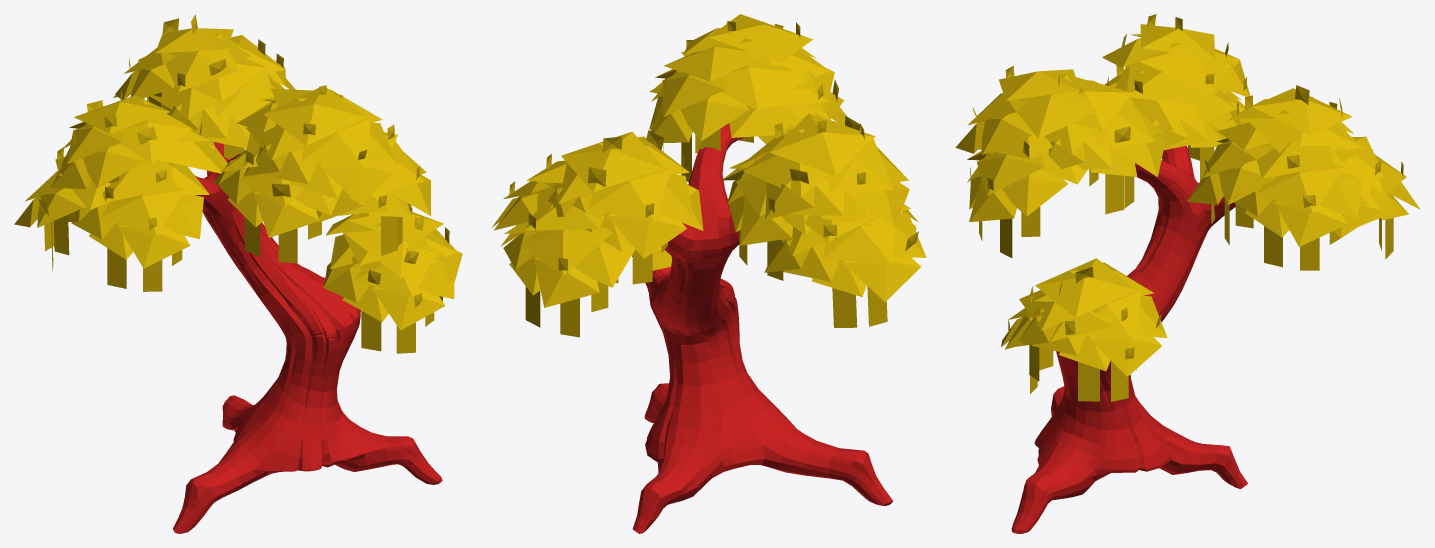
File: SM_Tree_02_P2.fbx
3 views of the same model, side by side, from view 1: azimuth 30°, elevation 25°; view 2: azimuth 150°, elevation 25°; view 3: azimuth 270°, elevation 25° (orthographic). The views are drawn at different scales.
Parts seen in each view (by area): view 1: SM_Tree_02; view 2: SM_Tree_02; view 3: SM_Tree_02.
Boxes of the visible parts, x1=… form: SM_Tree_02: x1=14, y1=14, x2=462, y2=533; SM_Tree_02: x1=491, y1=14, x2=926, y2=533; SM_Tree_02: x1=955, y1=14, x2=1420, y2=533.
Size of the model in its own units: 1086 by 1126 by 1129.
